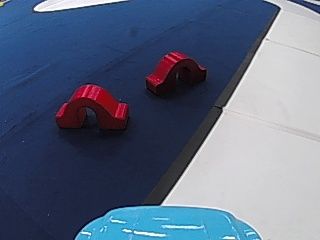bridge: (52, 80, 133, 131), (142, 47, 208, 96)
